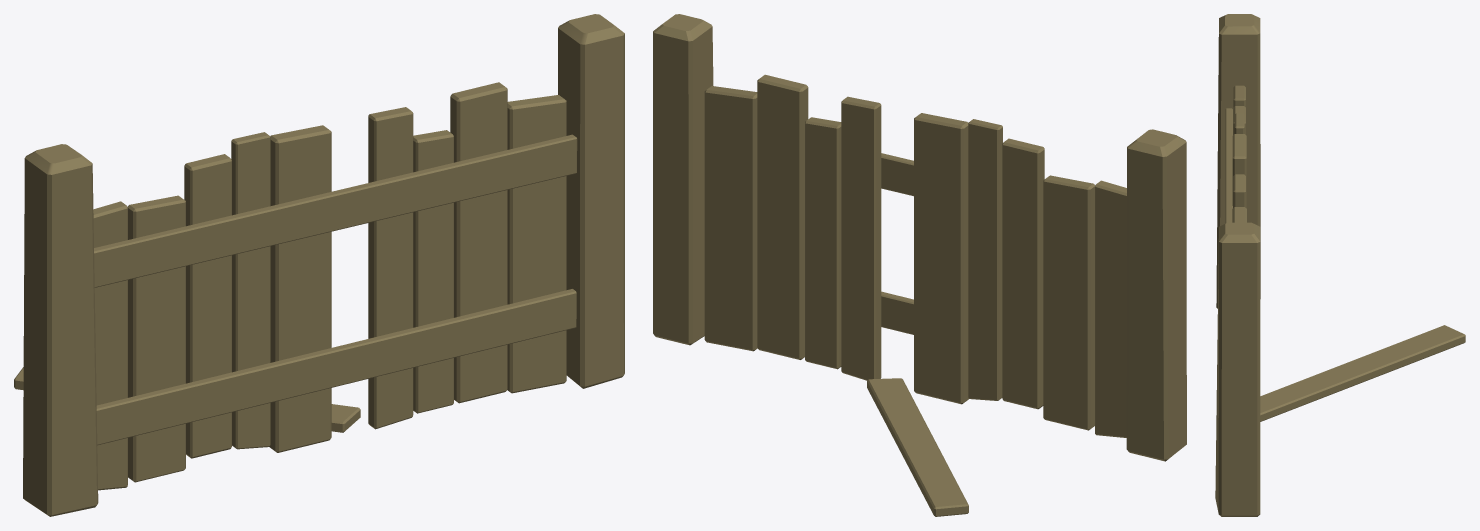
The model's file is Fence_broken_v003.fbx.
3 views of the same model, side by side, from view 1: azimuth 30°, elevation 25°; view 2: azimuth 150°, elevation 25°; view 3: azimuth 270°, elevation 25° (orthographic). The views are drawn at different scales.
Visible parts, largest first — view 1: Fence_Broken1_pCube16; view 2: Fence_Broken1_pCube16; view 3: Fence_Broken1_pCube16.
Part boxes in pixels (x1,y1,x2,y2): Fence_Broken1_pCube16: (14,14,624,516); Fence_Broken1_pCube16: (653,14,1186,516); Fence_Broken1_pCube16: (1215,14,1465,516).
Size of the model in its own units: 2.06 by 1.19 by 0.9629.
